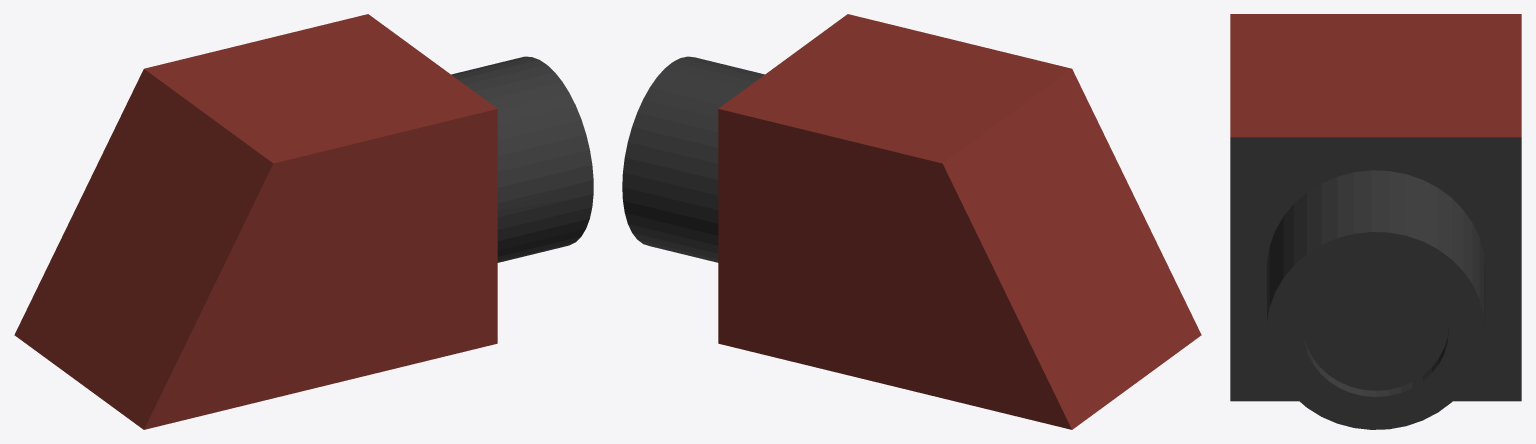
Rendered from CAMERA.dae.
The picture shows the model from 3 angles, left to right: view 1: azimuth 30°, elevation 25°; view 2: azimuth 150°, elevation 25°; view 3: azimuth 270°, elevation 25°; orthographic projection. The views are drawn at different scales.
Visible parts, largest first — view 1: CAMERA; view 2: CAMERA; view 3: CAMERA.
Part boxes in pixels (box(x1,y1,x2,y2)): CAMERA: box(14, 14, 593, 429); CAMERA: box(622, 14, 1201, 429); CAMERA: box(1230, 14, 1521, 429).
Bounding box in the file's own units: 0.0415 × 0.02 × 0.02.
